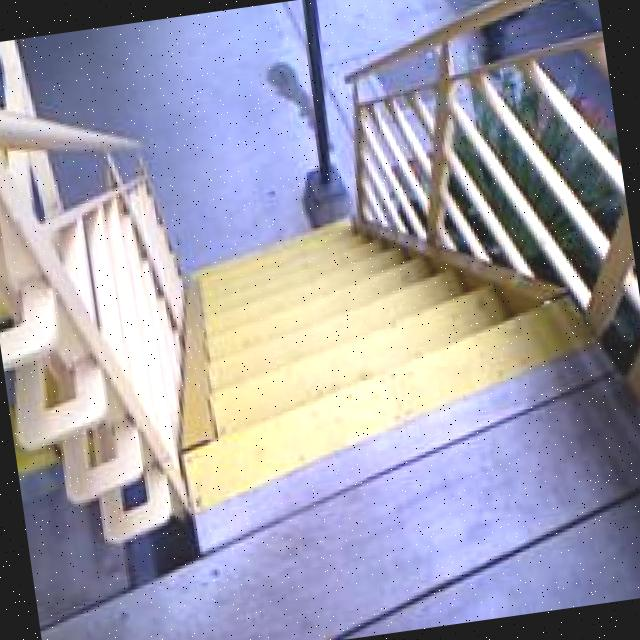stairs: (142, 177, 622, 557)
